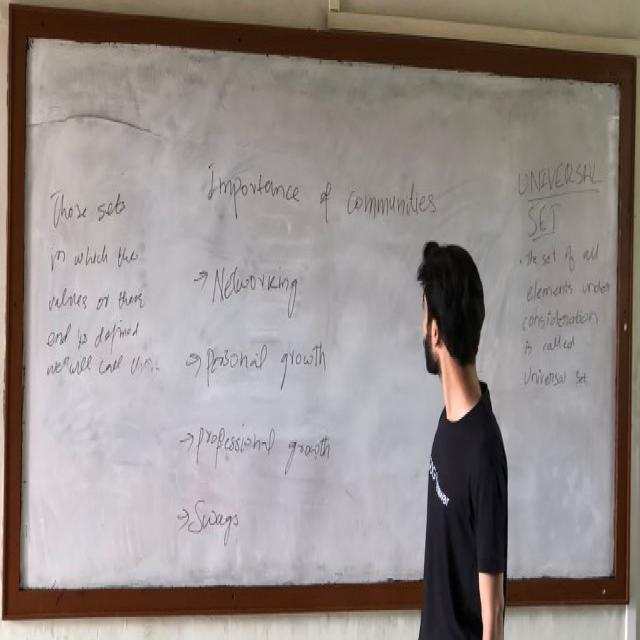Instructor: (406, 237, 504, 637)
White-board: (10, 25, 627, 601)
